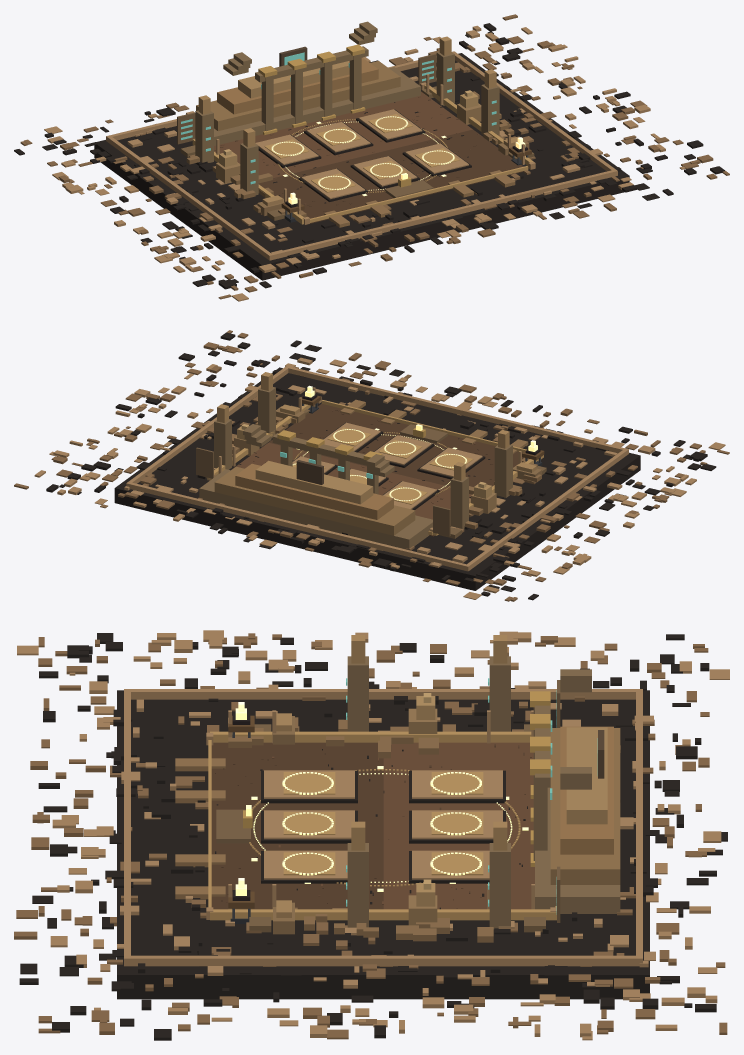
Rendered from preview-relic.glb.
3 renders of one model, top to bottom at view 1: azimuth 30°, elevation 25°; view 2: azimuth 150°, elevation 25°; view 3: azimuth 270°, elevation 25°, orthographic. The views are drawn at different scales.
Visible parts, largest first — view 1: Miniature_Outer_Rubble, Miniature_Plinth, Miniature_Six_Grounded_Foundations (×2), Miniature_Sun_Temple, Miniature_Friendly_Floor, Miniature_Frame, Miniature_Enemy_Floor, Miniature_Obelisks, Miniature_Temple_Columns, Miniature_Arena_Curb, Miniature_Sand_Drifts, Miniature_Broken_Statue (+7 smaller); view 2: Miniature_Outer_Rubble, Miniature_Plinth, Miniature_Sun_Temple, Miniature_Frame, Miniature_Six_Grounded_Foundations (×2), Miniature_Friendly_Floor, Miniature_Obelisks, Miniature_Enemy_Floor, Miniature_Arena_Curb, Miniature_Temple_Columns, Miniature_Glyph_Panels, Miniature_Broken_Statue (+8 smaller); view 3: Miniature_Plinth, Miniature_Outer_Rubble, Miniature_Six_Grounded_Foundations (×2), Miniature_Friendly_Floor, Miniature_Frame, Miniature_Enemy_Floor, Miniature_Sun_Temple, Miniature_Obelisks, Miniature_Arena_Curb, Miniature_Rubble_Piles, Miniature_Sand_Drifts, Miniature_Temple_Columns (+7 smaller).
Part boxes in pixels (bbox=[...]): Miniature_Outer_Rubble: bbox=[14, 14, 729, 301]; Miniature_Plinth: bbox=[94, 53, 629, 280]; Miniature_Six_Grounded_Foundations (×2): bbox=[255, 109, 471, 201]; Miniature_Sun_Temple: bbox=[196, 57, 420, 145]; Miniature_Friendly_Floor: bbox=[258, 129, 523, 224]; Miniature_Frame: bbox=[106, 51, 617, 260]; Miniature_Enemy_Floor: bbox=[214, 91, 472, 178]; Miniature_Obelisks: bbox=[195, 36, 499, 195]; Miniature_Temple_Columns: bbox=[258, 44, 365, 134]; Miniature_Arena_Curb: bbox=[192, 84, 533, 224]; Miniature_Sand_Drifts: bbox=[180, 86, 534, 227]; Miniature_Broken_Statue: bbox=[216, 90, 481, 183]; Miniature_Outer_Rubble: bbox=[14, 330, 729, 601]; Miniature_Plinth: bbox=[114, 367, 640, 590]; Miniature_Sun_Temple: bbox=[199, 460, 432, 548]; Miniature_Frame: bbox=[126, 366, 628, 571]; Miniature_Six_Grounded_Foundations (×2): bbox=[292, 422, 485, 510]; Miniature_Friendly_Floor: bbox=[269, 403, 523, 486]; Miniature_Obelisks: bbox=[214, 372, 512, 529]; Miniature_Enemy_Floor: bbox=[231, 442, 471, 536]; Miniature_Arena_Curb: bbox=[207, 400, 543, 535]; Miniature_Temple_Columns: bbox=[277, 430, 382, 494]; Miniature_Glyph_Panels: bbox=[196, 447, 450, 536]; Miniature_Broken_Statue: bbox=[234, 424, 496, 513]; Miniature_Plinth: bbox=[117, 690, 649, 999]; Miniature_Outer_Rubble: bbox=[14, 630, 729, 1040]; Miniature_Six_Grounded_Foundations (×2): bbox=[261, 770, 505, 883]; Miniature_Friendly_Floor: bbox=[211, 742, 383, 909]; Miniature_Frame: bbox=[124, 689, 642, 966]; Miniature_Enemy_Floor: bbox=[383, 742, 534, 909]; Miniature_Sun_Temple: bbox=[535, 726, 620, 913]; Miniature_Obelisks: bbox=[347, 635, 510, 928]; Miniature_Arena_Curb: bbox=[208, 731, 556, 920]; Miniature_Rubble_Piles: bbox=[228, 717, 493, 942]; Miniature_Sand_Drifts: bbox=[175, 724, 545, 932]; Miniature_Temple_Columns: bbox=[530, 691, 550, 866].
Size of the model in its own units: 13.77 by 2.18 by 10.21.
